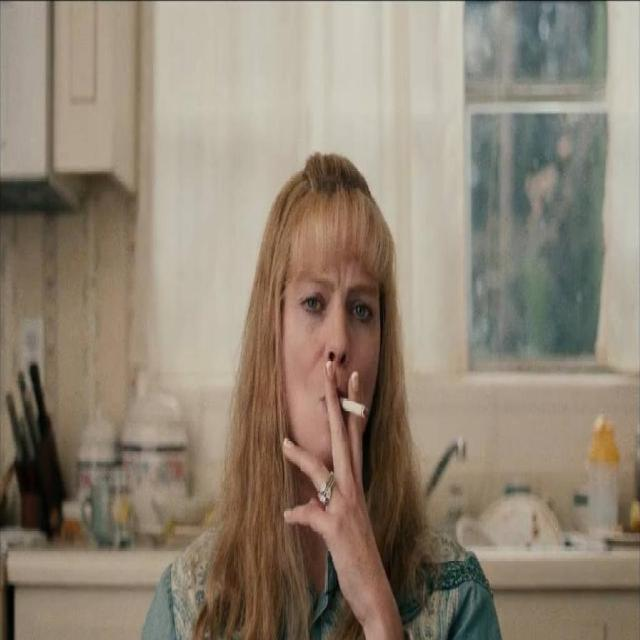smoking: (270, 201, 398, 615)
